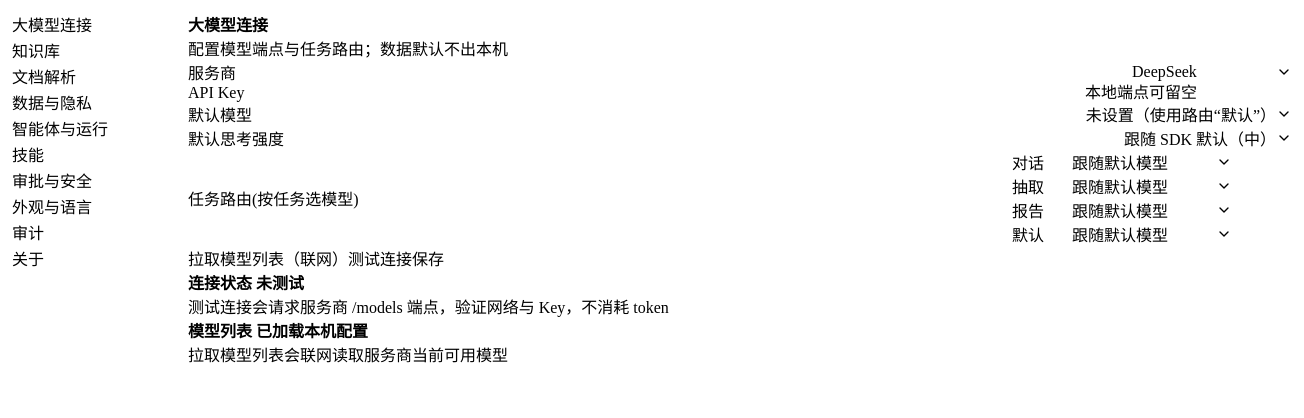
Test: SettingsView › fetches models over the network and populates the default-model dropdown
Check: the text "已加载本机配置" is shown, box [256,323,368,340]
Click the button "拉取模型列表（联网）" at x=268, y=258, box [188,246,348,270]
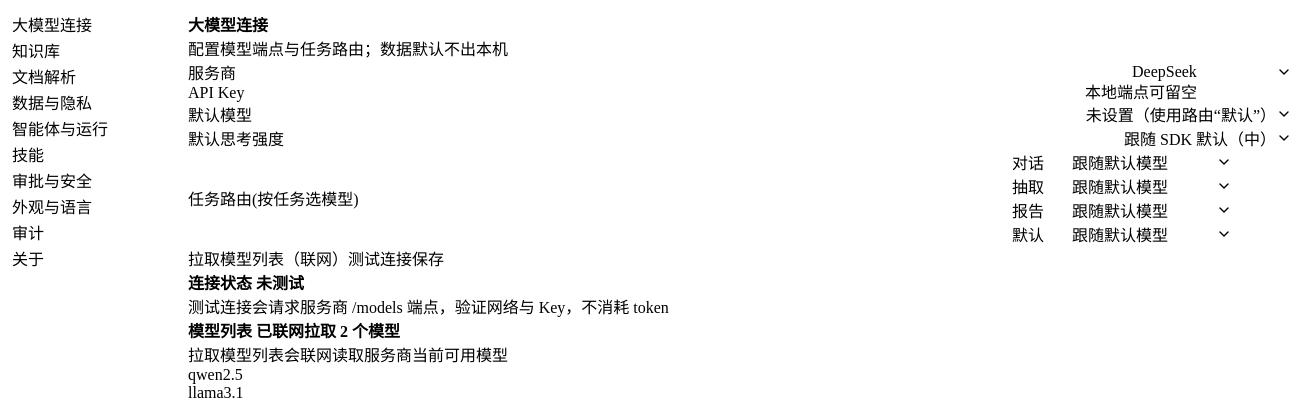
Check: the text "已联网拉取 2 个模型" is shown, box [256,323,400,340]
Check: the text "qwen2.5" is shown, box [188,366,243,383]
Check: the text "llama3.1" is shown, box [188,384,244,401]
Click the dropdown with test id "default-model-select" at x=1189, y=114, box [1086,102,1292,126]
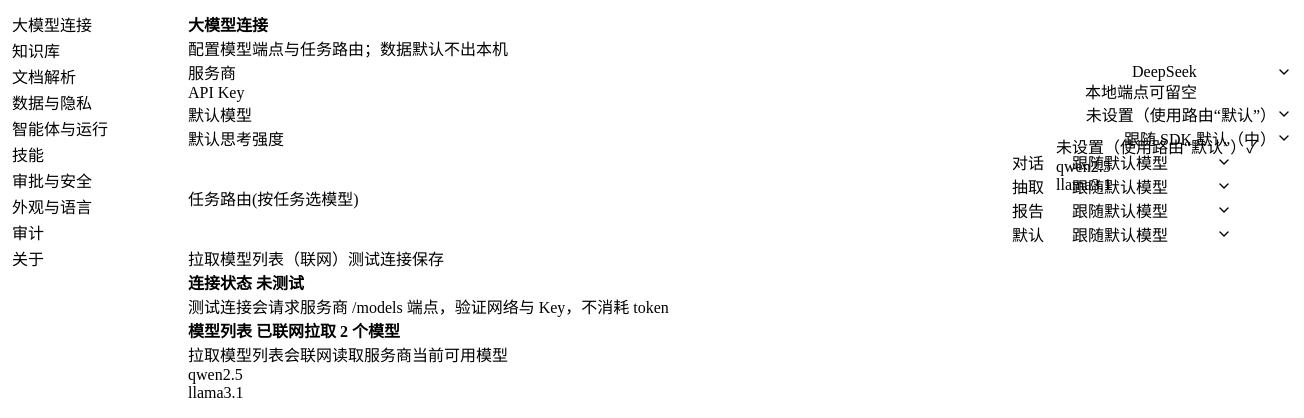
Check: the menu item "qwen2.5" is shown, box [1056,158,1276,176]
Check: the menu item "llama3.1" is shown, box [1056,176,1276,194]
